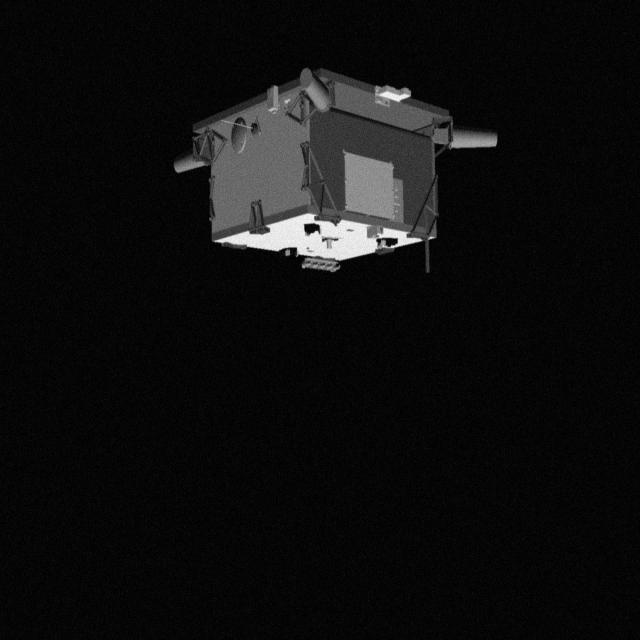satellite: (170, 54, 512, 284)
